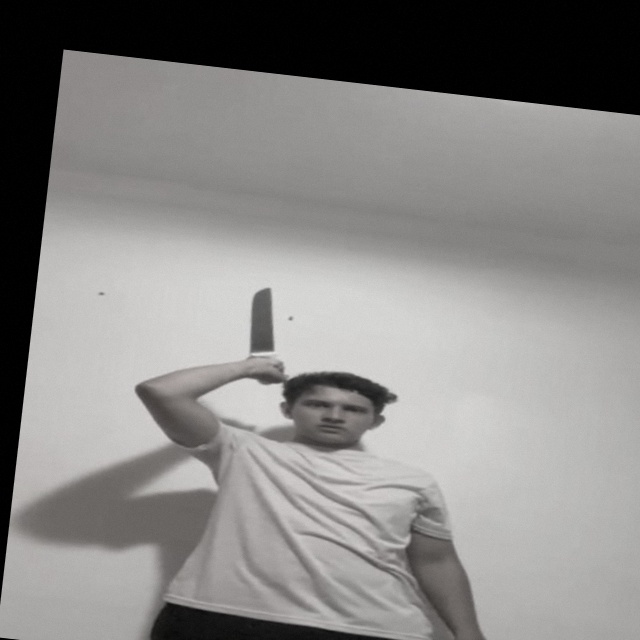Sharp-Object: (241, 280, 285, 353)
